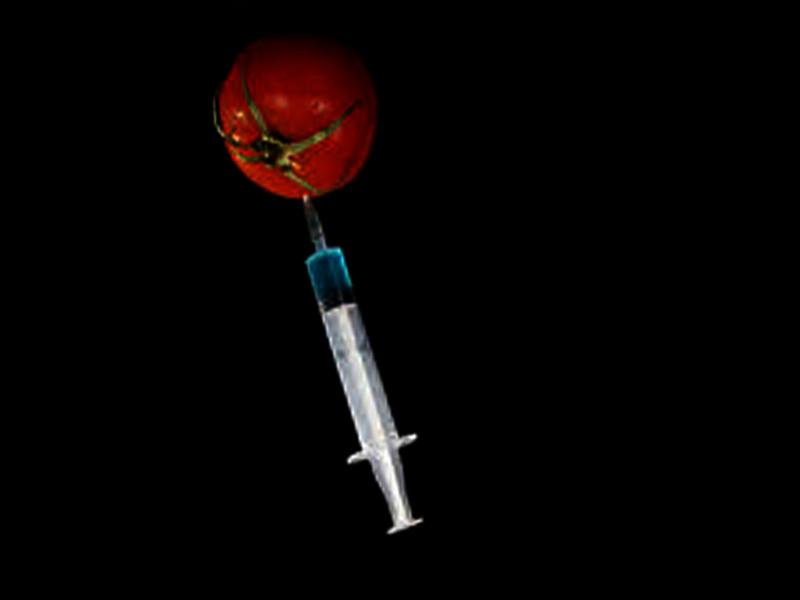Tomato: (209, 32, 384, 205)
